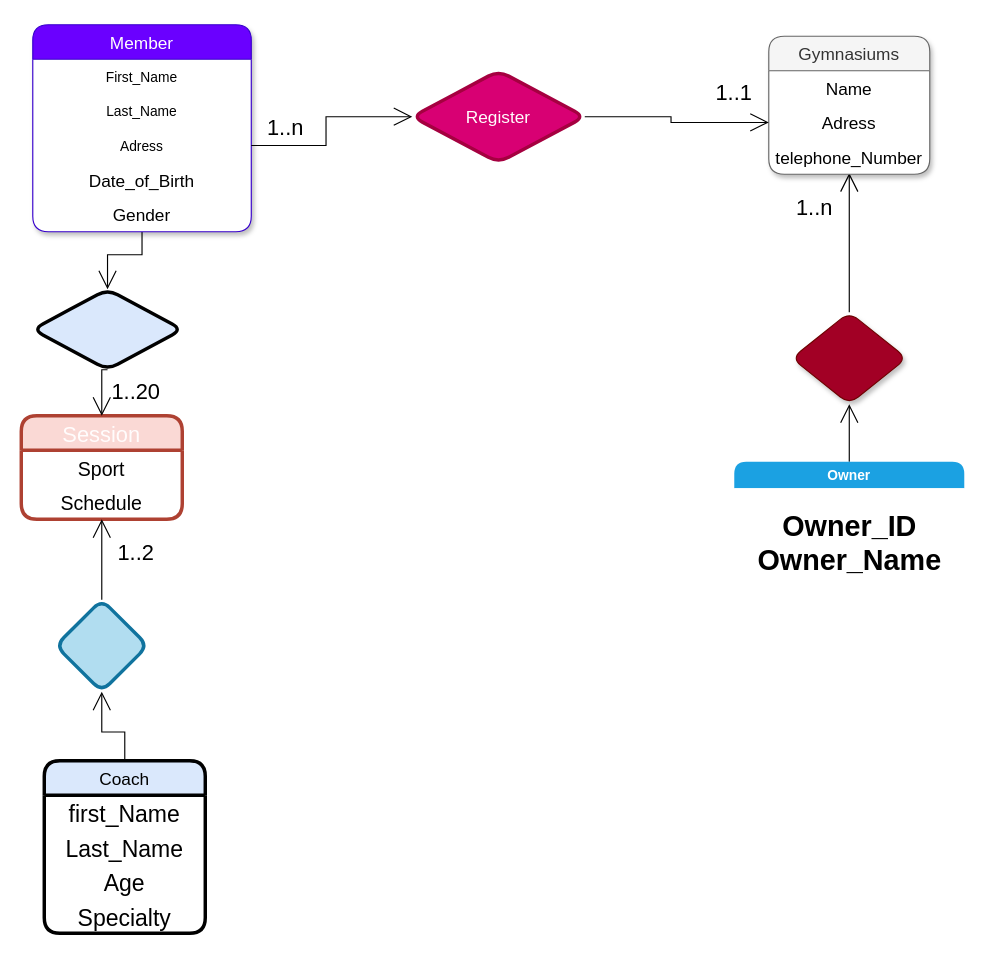
The diagram is 984 pixels wide and 955 high, and some of its shapes have lost their labels. Each missing label, with the centre of its shape:
"Accomodate" belongs at point (106, 329).
"Lead" belongs at point (101, 645).
"work" belongs at point (850, 359).
